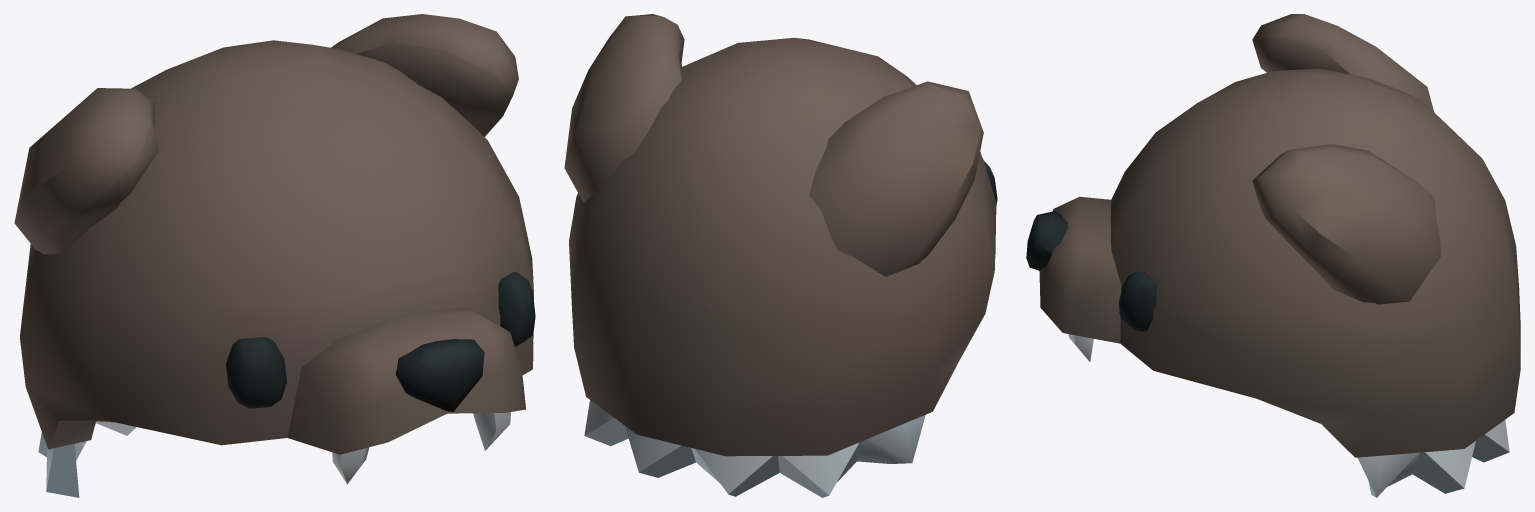
File: viking_helmet.glb
3 views of the same model, side by side, from view 1: azimuth 30°, elevation 25°; view 2: azimuth 150°, elevation 25°; view 3: azimuth 270°, elevation 25° (orthographic). The views are drawn at different scales.
Visible parts, largest first — view 1: Barbarian_Hat; view 2: Barbarian_Hat; view 3: Barbarian_Hat.
Part boxes in pixels (x1,y1,x2,y2): Barbarian_Hat: (14, 14, 535, 497); Barbarian_Hat: (564, 14, 997, 497); Barbarian_Hat: (1026, 14, 1520, 497).
Bounding box in the file's own units: 1.11 × 1.02 × 1.26.
1 material, 1 textured.
